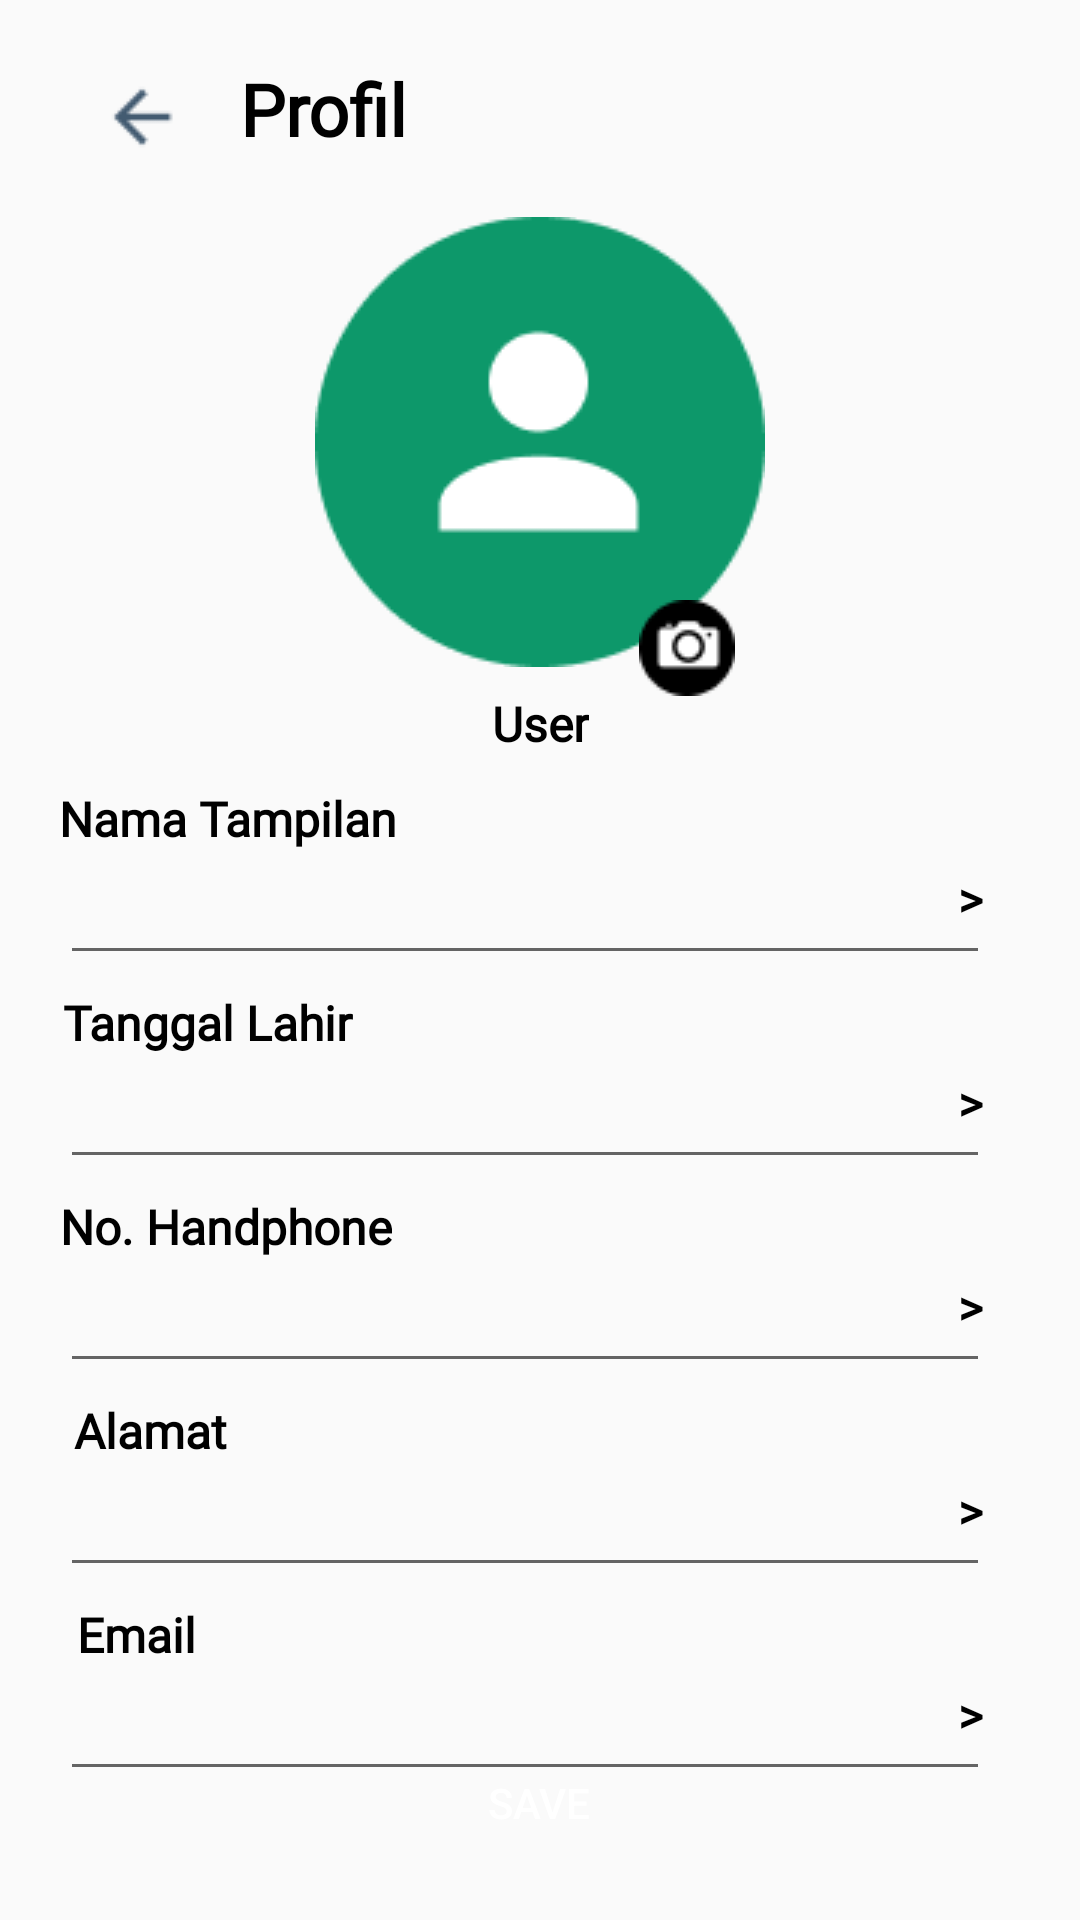

Screen size 1080×1920. Icon name, then its center in pixels as (x,y):
iconback: (143,117)
